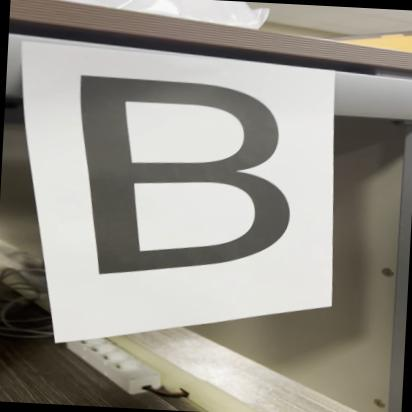seat: (43, 66, 320, 288)
